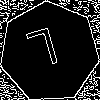L: (24, 27, 64, 78)
